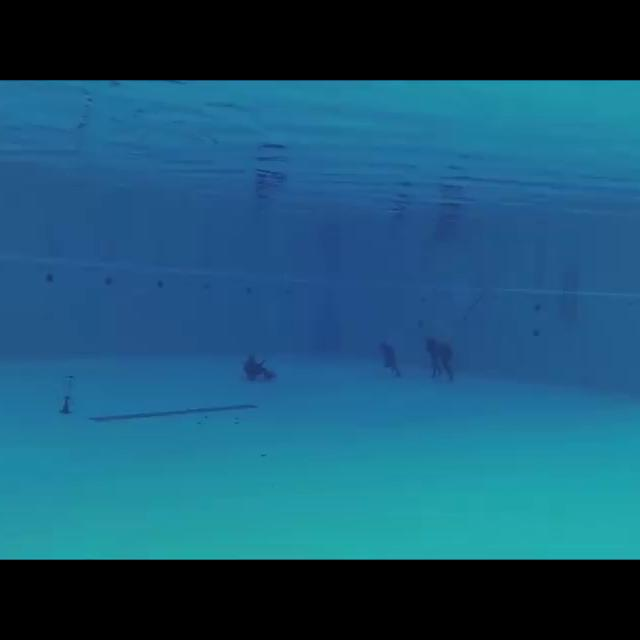human: (435, 336, 465, 391), (238, 346, 278, 386), (415, 325, 444, 380), (376, 334, 405, 380)
